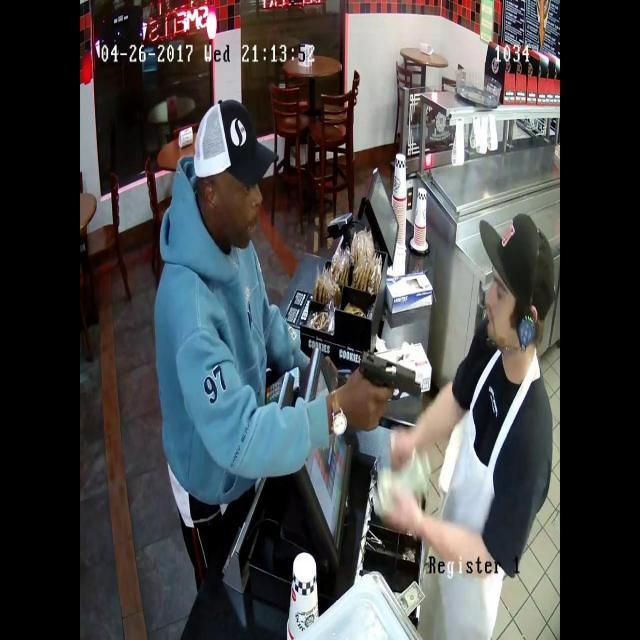weapon: (339, 324, 431, 416)
